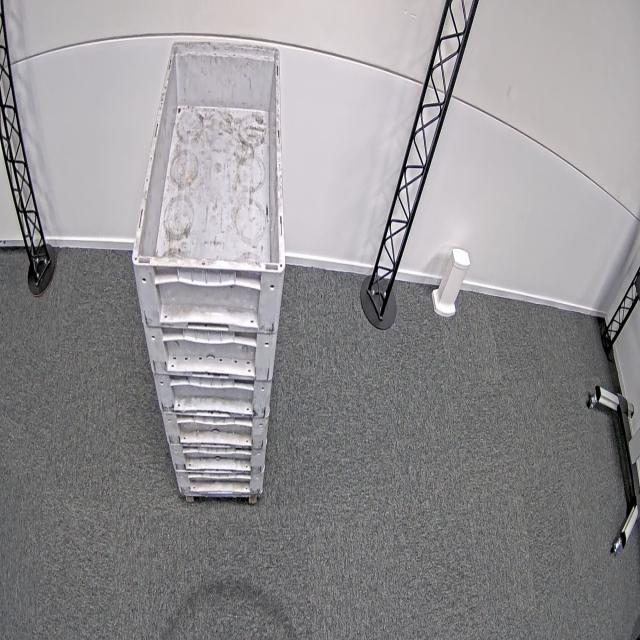Roll3G: (129, 39, 287, 277)
